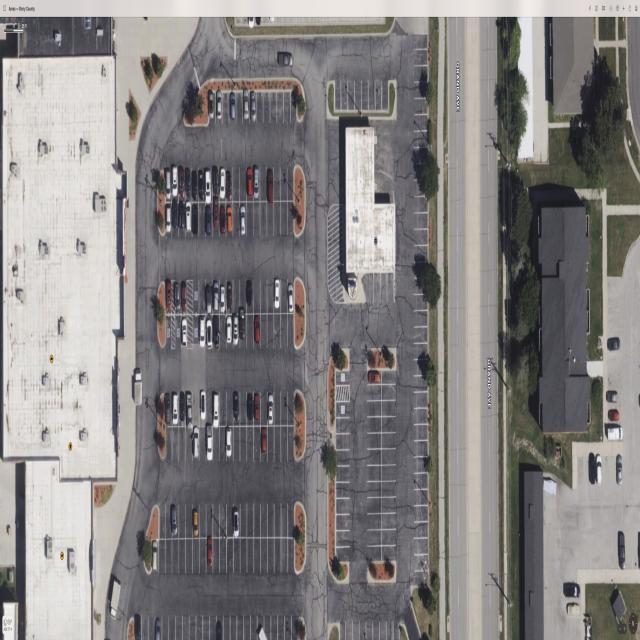Empty: (174, 314, 182, 350), (380, 399, 396, 416), (380, 416, 396, 432), (366, 514, 382, 530), (336, 449, 350, 467), (414, 456, 428, 474), (374, 81, 382, 111), (414, 489, 428, 506), (354, 82, 362, 110), (368, 82, 376, 110), (340, 82, 348, 110), (382, 432, 396, 448), (382, 449, 396, 465), (336, 370, 350, 386), (335, 402, 349, 418), (336, 434, 350, 450), (336, 466, 350, 482), (367, 498, 381, 514), (368, 481, 382, 497), (368, 466, 382, 482), (367, 449, 381, 465), (367, 433, 381, 449), (367, 417, 381, 433), (414, 473, 428, 489), (414, 522, 428, 538), (414, 538, 428, 554), (413, 424, 427, 440), (414, 392, 428, 408), (193, 314, 199, 350), (414, 326, 426, 344), (414, 359, 426, 376), (362, 82, 368, 110), (348, 82, 354, 110), (194, 280, 198, 316), (166, 315, 170, 349)
Parked: (206, 538, 214, 574), (192, 504, 200, 540), (171, 504, 179, 540), (226, 426, 234, 462), (260, 426, 268, 462), (212, 392, 220, 428), (192, 426, 200, 462), (205, 426, 213, 462), (274, 278, 282, 314), (232, 503, 240, 537), (246, 392, 254, 426), (198, 392, 206, 426), (226, 314, 234, 348), (226, 280, 234, 314), (266, 392, 274, 424), (185, 392, 192, 428), (253, 392, 260, 426), (205, 314, 212, 348), (253, 314, 260, 348), (213, 314, 219, 350), (233, 314, 239, 350), (233, 392, 239, 426), (173, 393, 179, 427), (154, 616, 162, 640)
